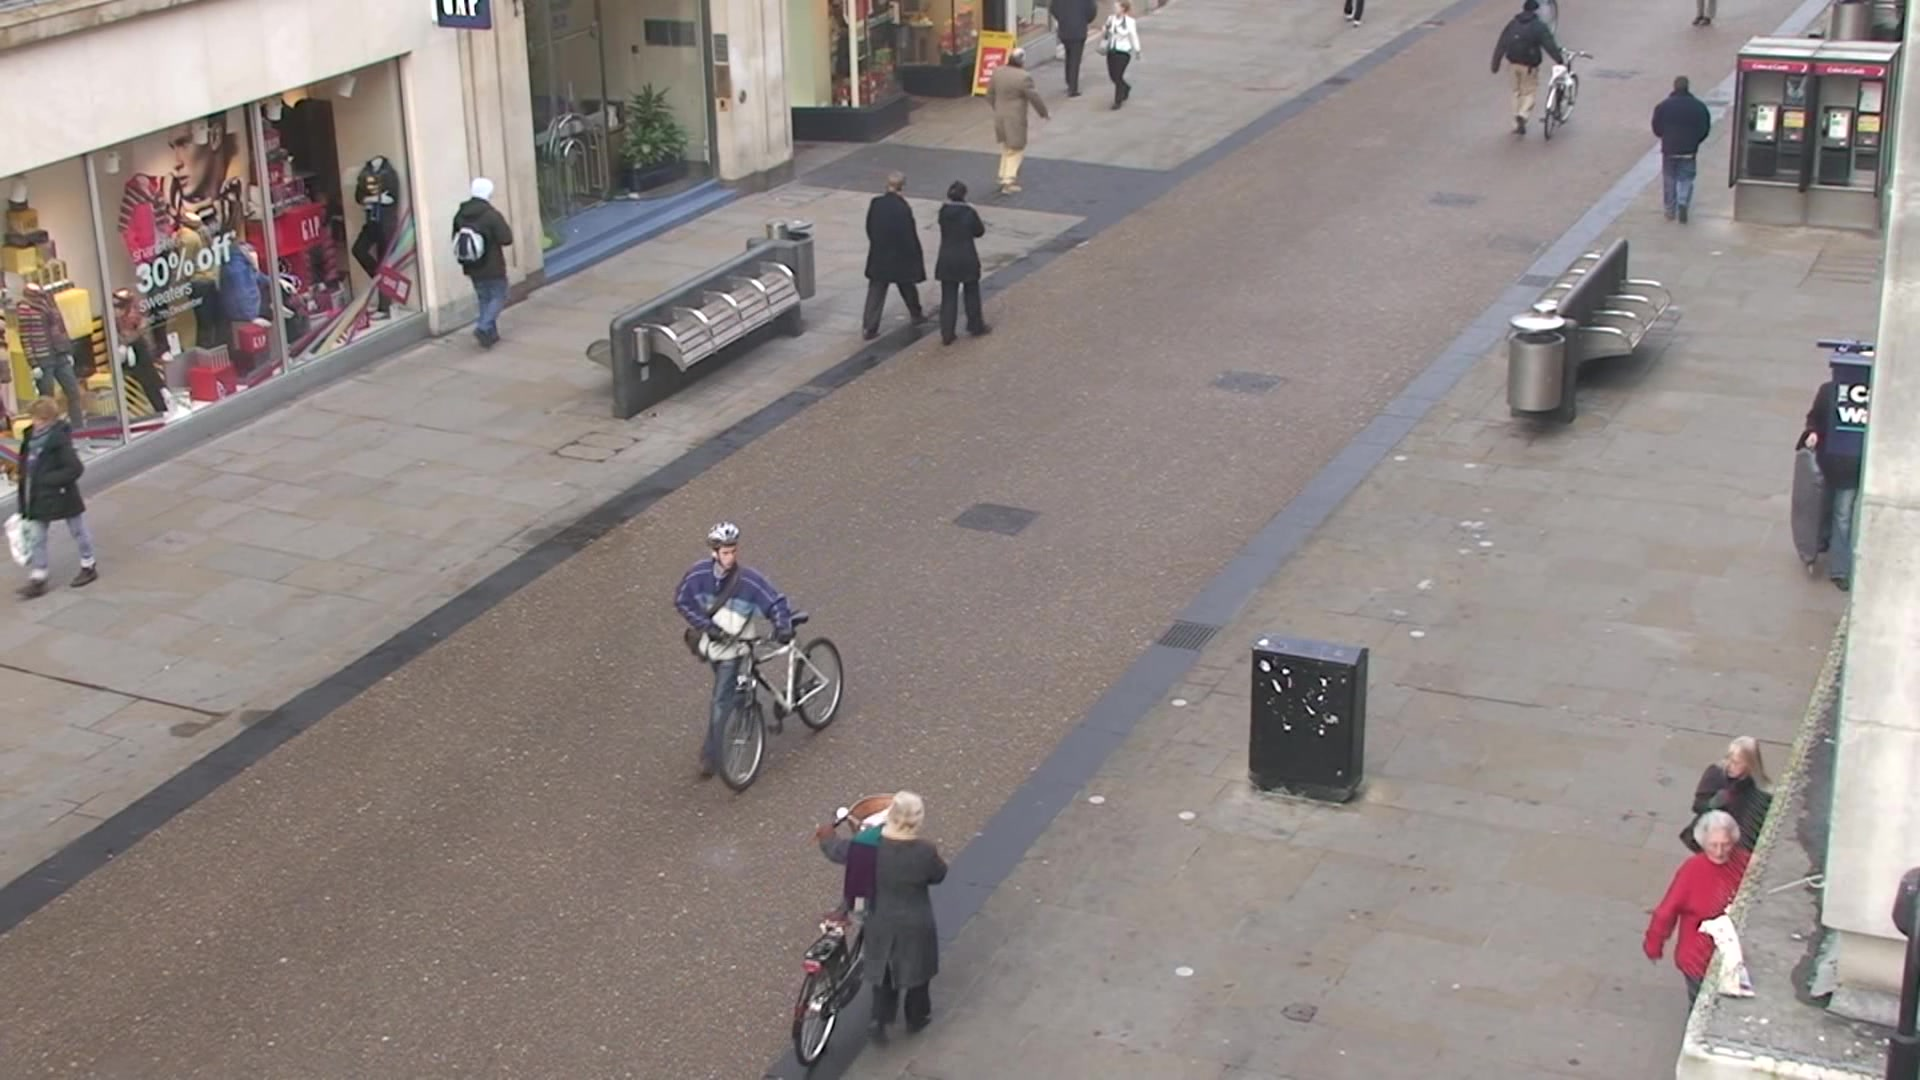person: (815, 789, 946, 1045), (675, 520, 796, 780), (2, 395, 100, 601), (860, 171, 929, 339), (452, 177, 515, 352), (1491, 1, 1566, 139), (938, 181, 995, 348), (1652, 76, 1711, 227), (986, 47, 1047, 192), (1093, 1, 1142, 115)
